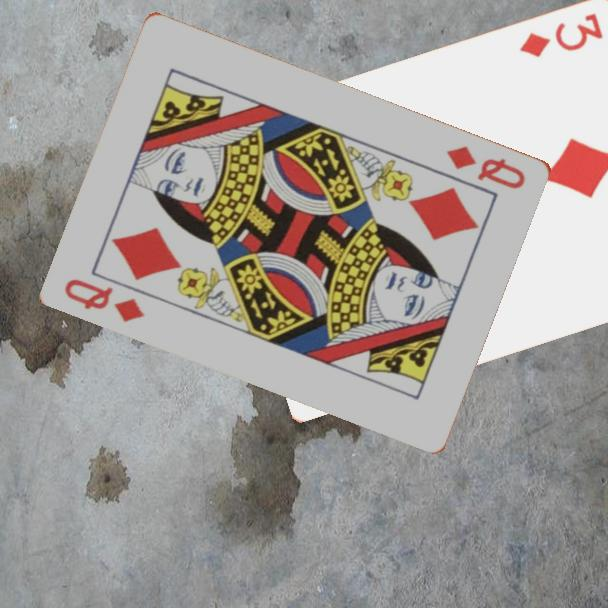d03: (516, 9, 606, 60)
d12: (61, 274, 148, 326), (443, 141, 529, 192)
